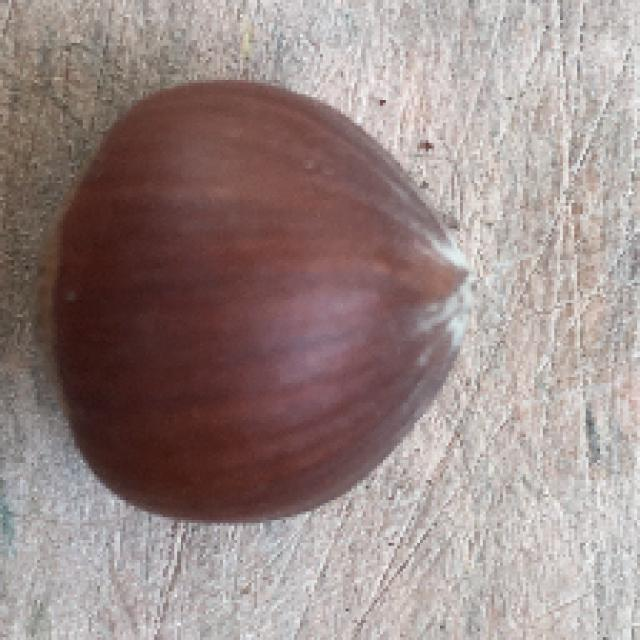DamagedHazelnut: (35, 75, 473, 529)
